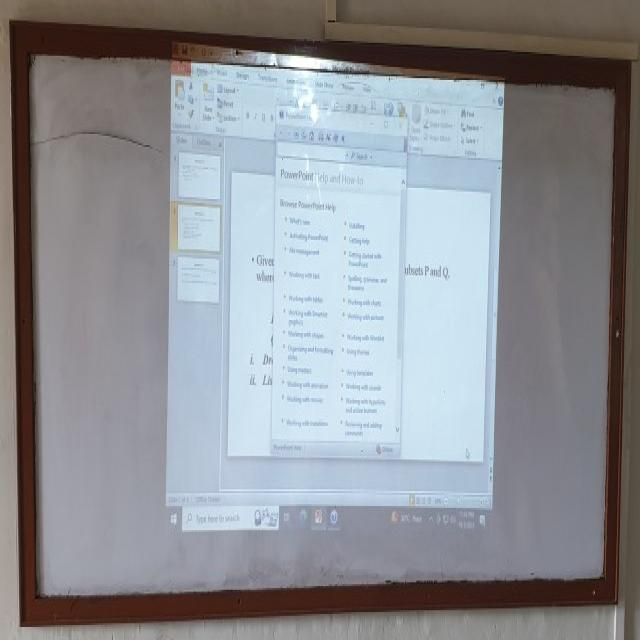Slide: (160, 41, 506, 540)
White-board: (19, 32, 621, 608)
